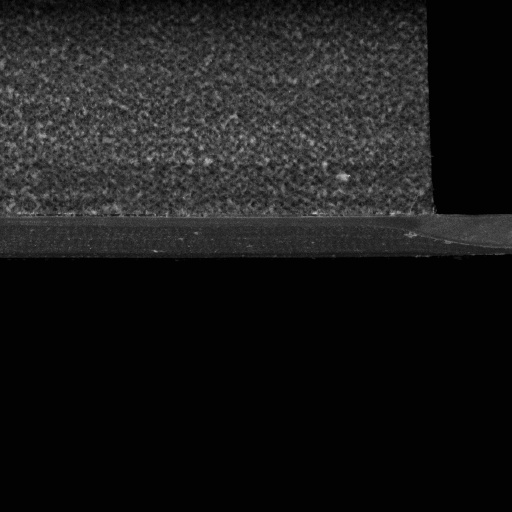changdai: (430, 211, 511, 263)
